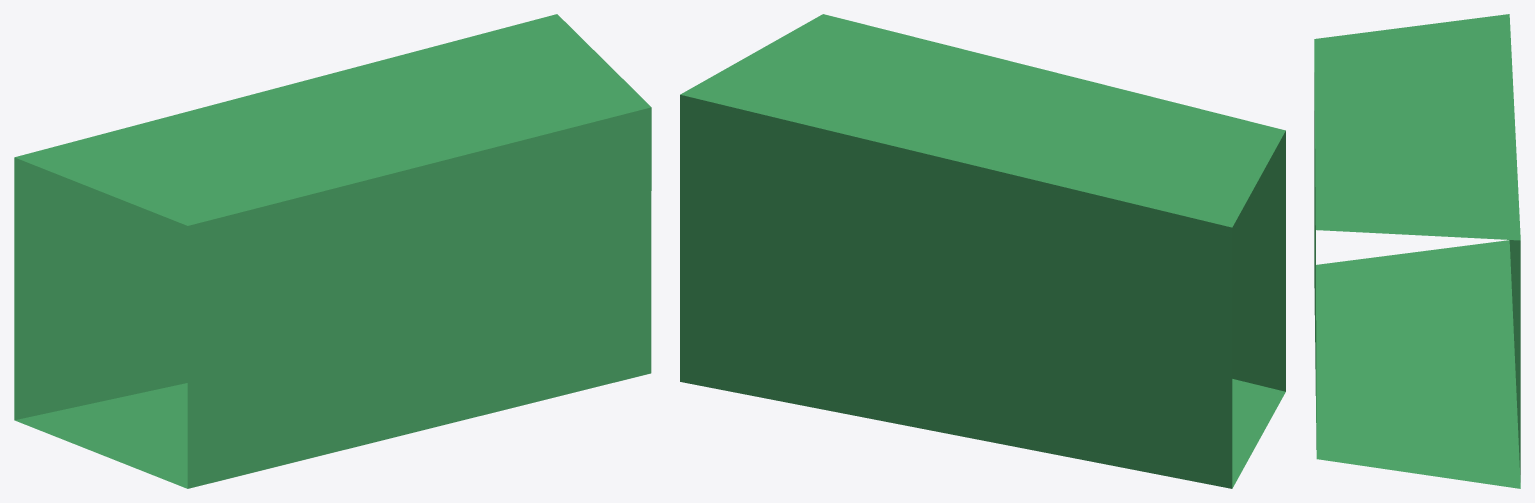
Rendered from Museum_Path_1.fbx.
3 views of the same model, side by side, from view 1: azimuth 30°, elevation 25°; view 2: azimuth 150°, elevation 25°; view 3: azimuth 270°, elevation 25° (orthographic). The views are drawn at different scales.
Visible parts, largest first — view 1: Pathway_1; view 2: Pathway_1; view 3: Pathway_1.
Part boxes in pixels (x1,y1,x2,y2): Pathway_1: [14, 14, 651, 488]; Pathway_1: [680, 14, 1285, 488]; Pathway_1: [1314, 14, 1520, 488].
Bounding box in the file's own units: 1047 × 526 × 397.
